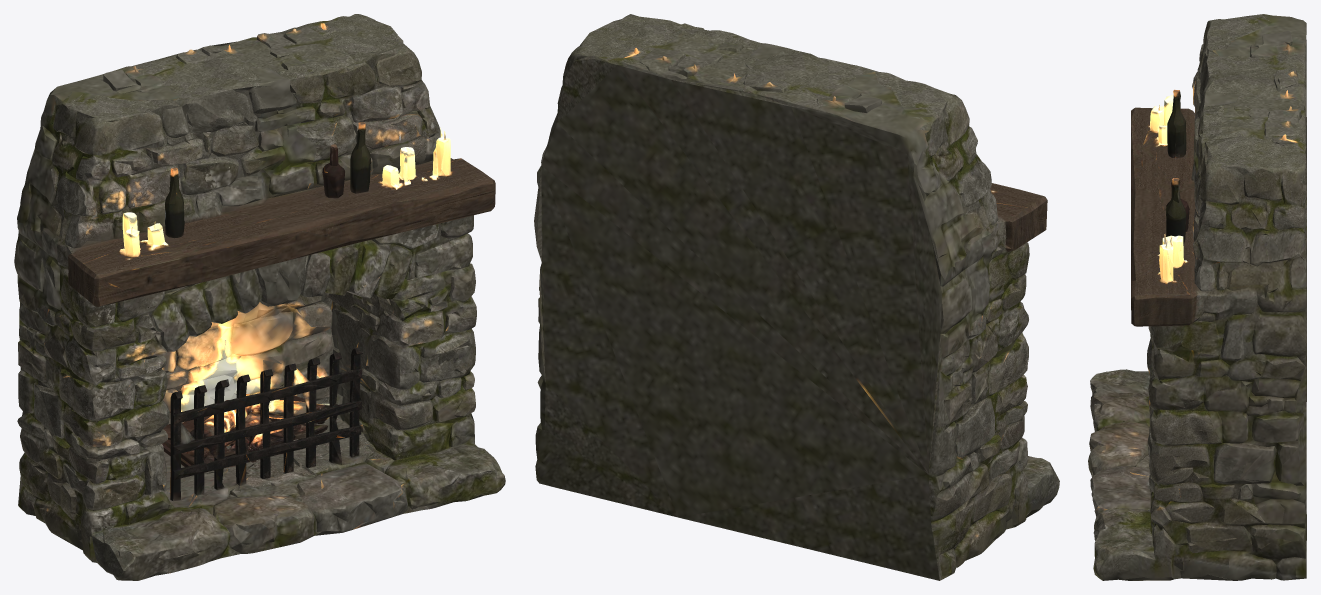
The model's file is sp_m_fireplace.glb.
3 views of the same model, side by side, from view 1: azimuth 30°, elevation 25°; view 2: azimuth 150°, elevation 25°; view 3: azimuth 270°, elevation 25° (orthographic). The views are drawn at different scales.
Visible parts, largest first — view 1: Mesh_0; view 2: Mesh_0; view 3: Mesh_0.
Part boxes in pixels (x1,y1,x2,y2): Mesh_0: (14,14,505,580); Mesh_0: (534,14,1059,580); Mesh_0: (1088,14,1306,580).
Size of the model in its own units: 1.9 by 1.9 by 0.9234.
1 material, 1 textured.
